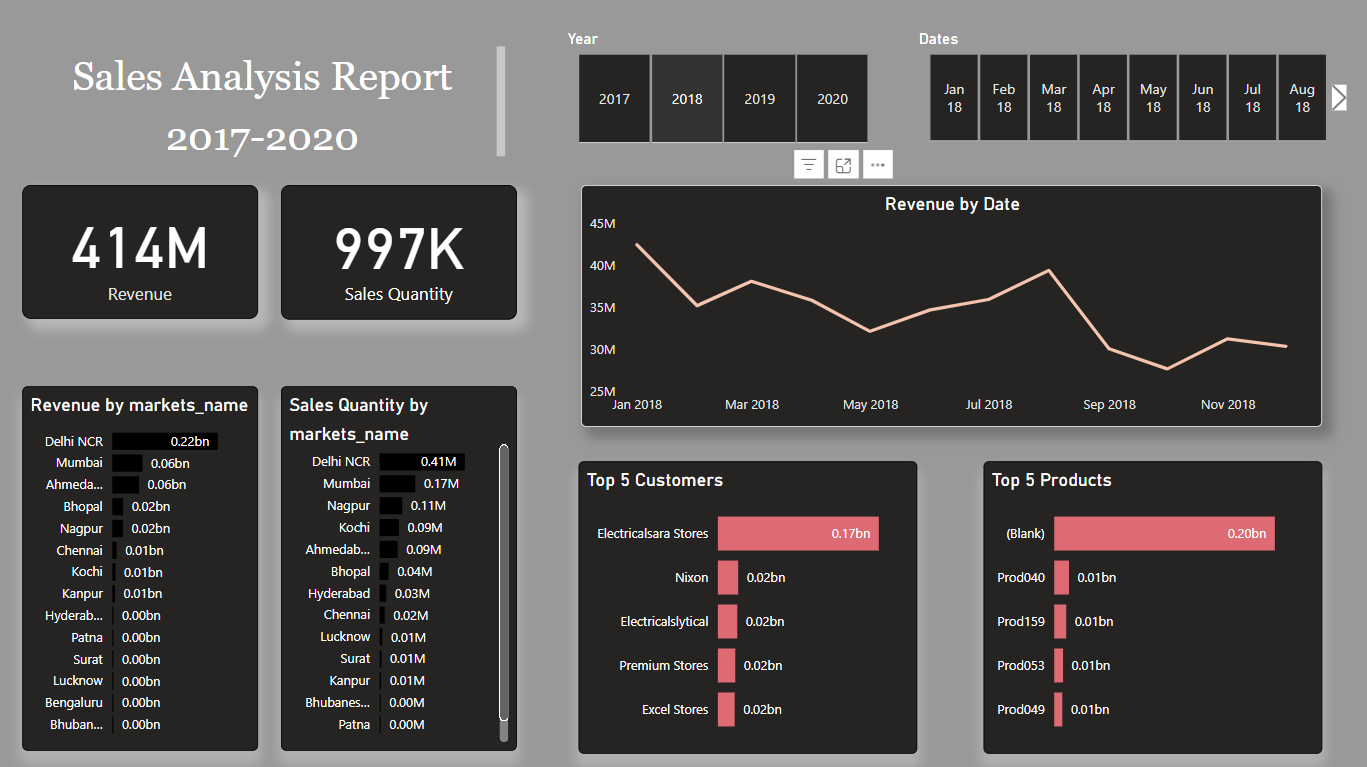

This screenshot's page, from the dashboard's own definition file:
{"tool":"powerbi","page":{"name":"Page 1","canvas":[1280,720],"ordinal":0},"visuals":[{"type":"card","fields":{"Values":["BaseMeasures.Revenue"]},"box":[24.3,172.9,220,125],"z":0},{"type":"card","fields":{"Values":["BaseMeasures.Sales Quantity"]},"box":[265.8,172.5,220,125.8],"z":1000},{"type":"barChart","fields":{"Y":["BaseMeasures.Revenue"],"Category":["markets.markets_name"]},"box":[24.3,360,220,340],"z":2000},{"type":"barChart","fields":{"Y":["BaseMeasures.Sales Quantity"],"Category":["markets.markets_name"]},"box":[265.7,360,220,340],"z":3000},{"type":"slicer","fields":{"Values":["date.year"]},"box":[520,20,317.1,118.6],"z":4000},{"type":"slicer","fields":{"Values":["date.cy_date"]},"box":[847.1,20,417.1,117.1],"z":5000},{"type":"barChart","title":"Top 5 Customers","fields":{"Y":["BaseMeasures.Revenue"],"Category":["customers.Customer_Name"]},"box":[542.9,430,315.7,272.9],"z":6000},{"type":"barChart","title":"Top 5 Products","fields":{"Y":["BaseMeasures.Revenue"],"Category":["products.product_code"]},"box":[921.4,430,315.7,272.9],"z":7000},{"type":"lineChart","title":"Revenue by Date","fields":{"Y":["BaseMeasures.Revenue"],"Category":["date.cy_date"]},"box":[545.7,172.9,691.4,225.7],"z":8000},{"type":"textbox","box":[24.3,38.6,455.7,117.1],"z":8001}]}

Visuals, with their boxes in screenshot pixels (x1, y1, x2, y2), scaled from the page's 1280x720 canvas onto the 1367x767 screenshot:
card - BaseMeasures.Revenue: bbox=(26, 184, 261, 317)
card - BaseMeasures.Sales Quantity: bbox=(284, 184, 519, 318)
barChart - BaseMeasures.Revenue x markets.markets_name: bbox=(26, 384, 261, 746)
barChart - BaseMeasures.Sales Quantity x markets.markets_name: bbox=(284, 384, 519, 746)
slicer - date.year: bbox=(555, 21, 894, 148)
slicer - date.cy_date: bbox=(905, 21, 1350, 146)
"Top 5 Customers" barChart: bbox=(580, 458, 917, 749)
"Top 5 Products" barChart: bbox=(984, 458, 1321, 749)
"Revenue by Date" lineChart: bbox=(583, 184, 1321, 425)
textbox: bbox=(26, 41, 513, 166)
